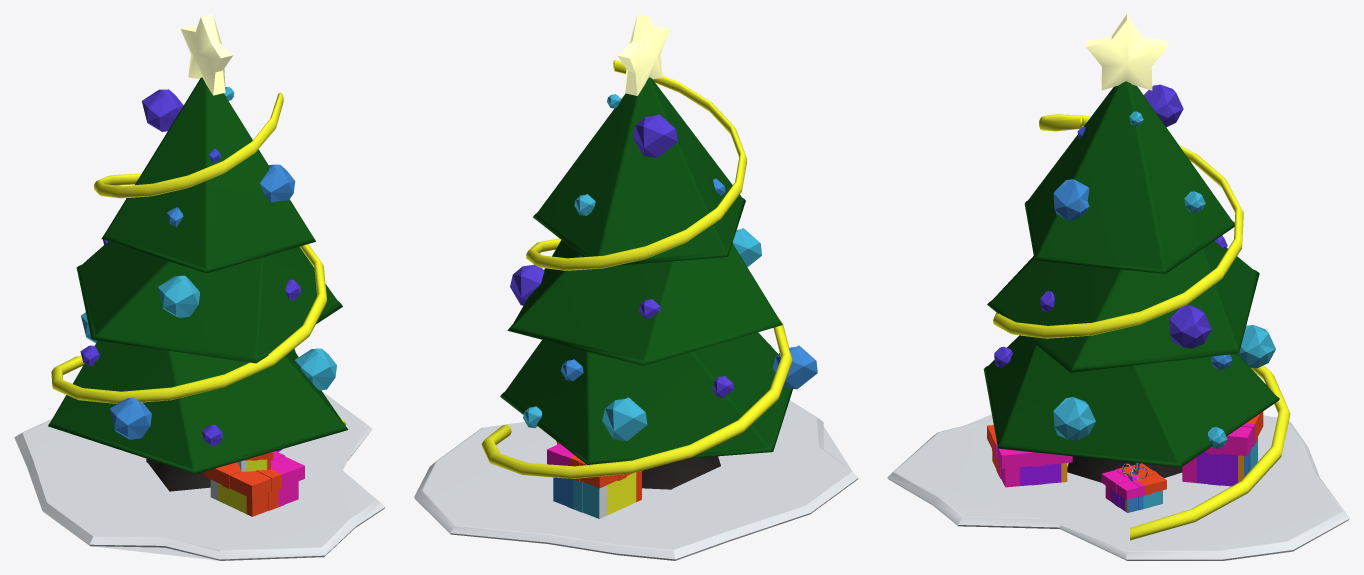
3 renders of one model, left to right at view 1: azimuth 30°, elevation 25°; view 2: azimuth 150°, elevation 25°; view 3: azimuth 270°, elevation 25°, orthographic.
Parts seen in each view (by area): view 1: tree, snow, line, boll, present, star; view 2: tree, snow, line, boll, present, star; view 3: tree, snow, line, present, boll, star.
Part boxes in pixels (x1,y1,x2,y2): tree: (48, 77, 348, 491); snow: (14, 391, 385, 560); line: (51, 92, 345, 425); boll: (80, 87, 336, 445); present: (204, 449, 304, 516); star: (181, 14, 233, 95); tree: (500, 77, 792, 489); snow: (414, 400, 858, 560); line: (481, 60, 792, 478); boll: (510, 94, 817, 441); present: (547, 441, 641, 518); star: (617, 14, 670, 95); tree: (983, 81, 1279, 482); snow: (887, 414, 1349, 560); line: (993, 114, 1290, 540); present: (987, 411, 1263, 512); boll: (994, 84, 1275, 448); star: (1086, 14, 1167, 90).
Bounding box in the file's own units: 0.0326 × 0.0428 × 0.0388.
Materials: 2 (1 with a texture image).
